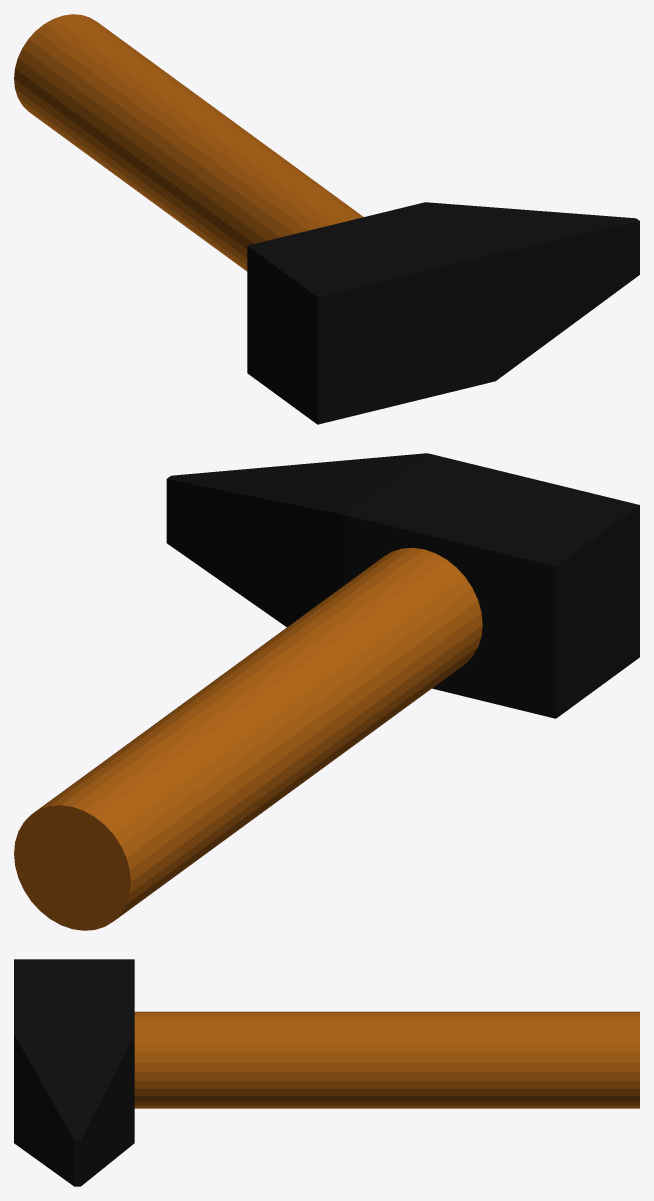
File: klopfer.glb
3 views of the same model, one above another, from view 1: azimuth 30°, elevation 25°; view 2: azimuth 150°, elevation 25°; view 3: azimuth 270°, elevation 25° (orthographic). The views are drawn at different scales.
Visible parts, largest first — view 1: Cylinder; view 2: Cylinder; view 3: Cylinder.
Boxes of the visible parts, x1,y1,x2,y2 form: Cylinder: (14, 14, 639, 424); Cylinder: (14, 453, 639, 930); Cylinder: (14, 959, 639, 1186).
Bounding box in the file's own units: 2.07 × 0.7045 × 3.65.
